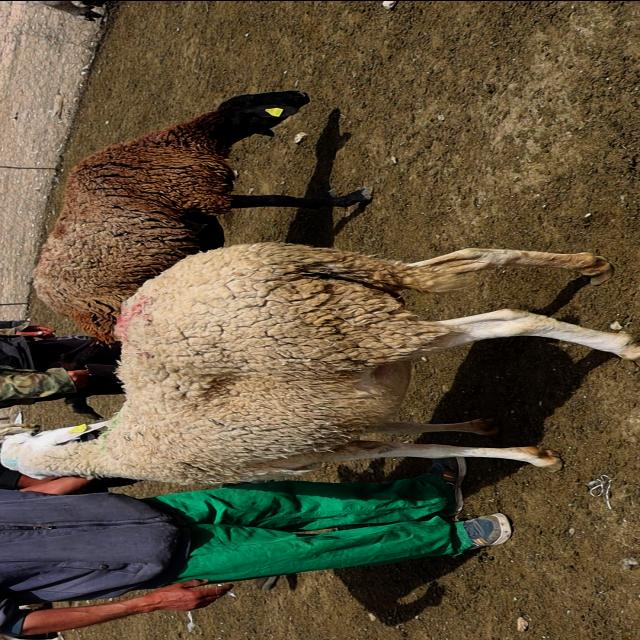Score_3: (0, 242, 639, 484)
